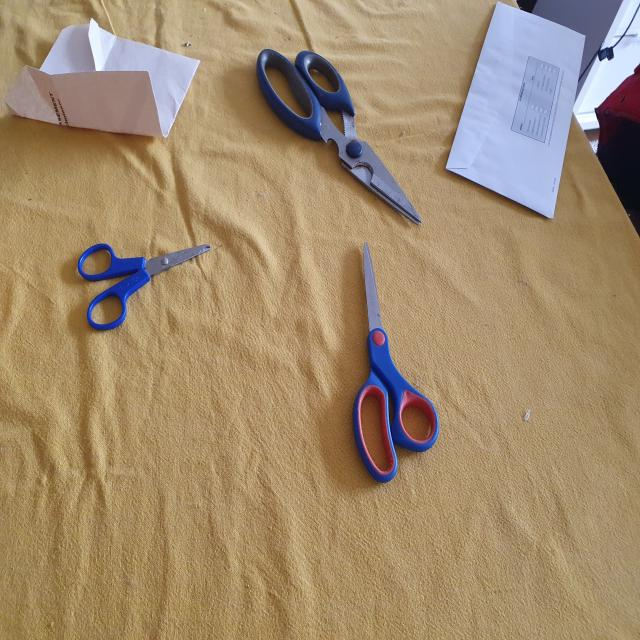scissors: (256, 41, 424, 227), (346, 238, 443, 489), (75, 240, 213, 333)
